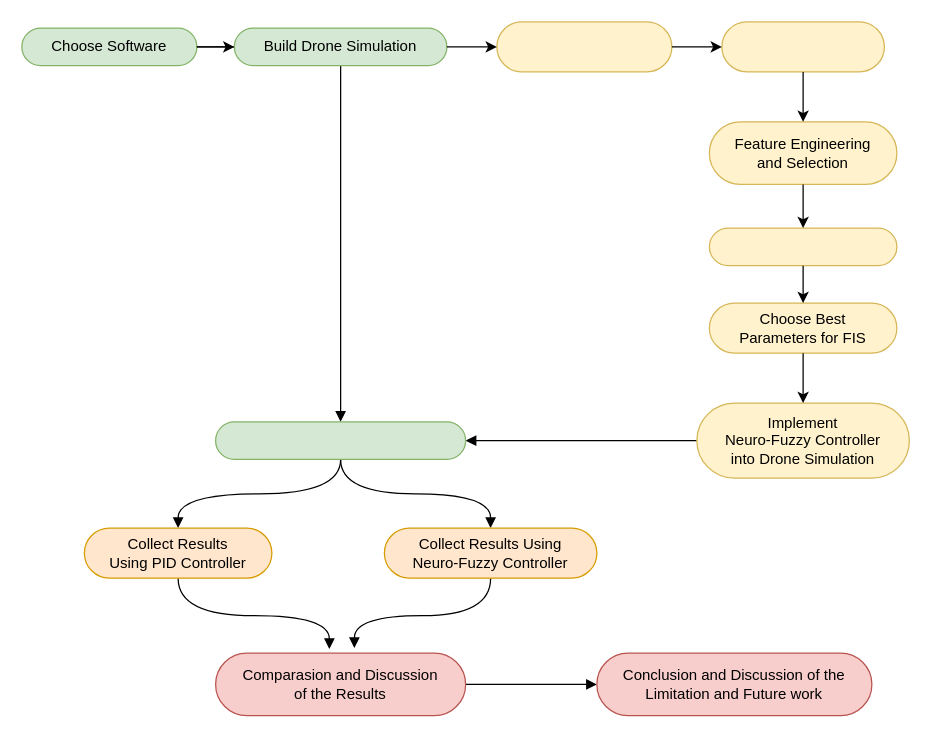
Some shapes in this 931 by 738 pixel diagram are drawn without their labels. The box of each missing label's shape, as (x1, y1, x2, y2) in pixels:
Collect Data for PID Controller: (496, 21, 672, 72)
Create 5 Different Scenarios: (214, 421, 466, 459)
Data Processing and Cleaning: (721, 21, 884, 72)
Train and Tune FIS: (708, 227, 897, 266)
